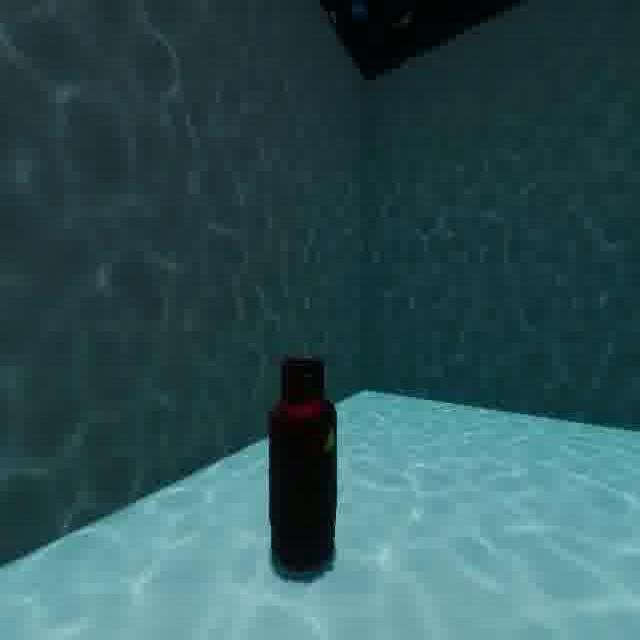Cylinder: (258, 343, 345, 580)
